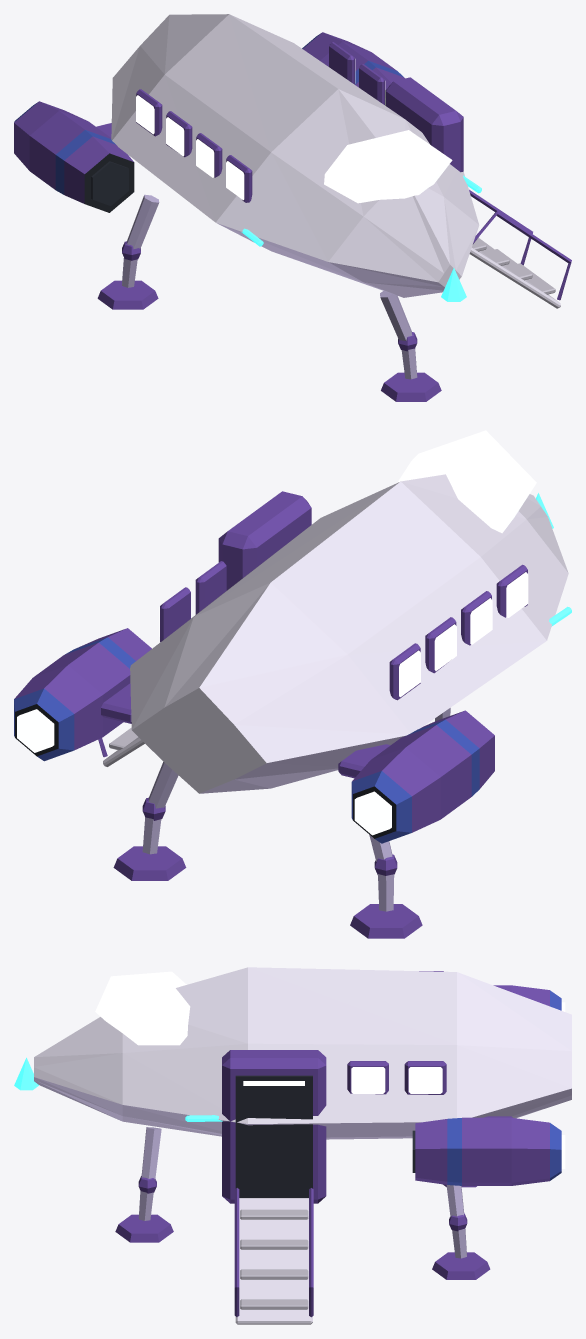
Rendered from pri-p_offen.glb.
The picture shows the model from 3 angles, top to bottom: view 1: azimuth 30°, elevation 25°; view 2: azimuth 150°, elevation 25°; view 3: azimuth 270°, elevation 25°; orthographic projection. The views are drawn at different scales.
Visible parts, largest first — view 1: rumpf, triebwerk_r, cockpit, fenster, türmodul, treppe, landebein_3, landebein_1, triebwerk_l, lichtakzente; view 2: rumpf, triebwerk_r, triebwerk_l, fenster, cockpit, türmodul, landebein_2, landebein_3, pylone, treppe; view 3: rumpf, treppe, triebwerk_l, türöffnung, türmodul, cockpit, fenster, landebein_1, landebein_2, triebwerk_r, lichtakzente.
Part boxes in pixels (box(x1,y1,x2,y2)): rumpf: box(111, 14, 479, 297); triebwerk_r: box(14, 101, 134, 212); cockpit: box(324, 130, 452, 203); fenster: box(136, 42, 385, 202); türmodul: box(386, 77, 463, 172); treppe: box(469, 189, 571, 308); landebein_3: box(97, 194, 159, 309); landebein_1: box(380, 291, 441, 401); triebwerk_l: box(302, 32, 404, 105); lichtakzente: box(241, 175, 481, 301); rumpf: box(130, 474, 568, 793); triebwerk_r: box(351, 710, 494, 843); triebwerk_l: box(14, 628, 151, 761); fenster: box(159, 561, 528, 700); cockpit: box(397, 430, 536, 533); türmodul: box(218, 491, 311, 590); landebein_2: box(113, 762, 186, 880); landebein_3: box(350, 835, 422, 938); pylone: box(101, 683, 390, 778); treppe: box(98, 727, 144, 766); rumpf: box(34, 967, 571, 1139); treppe: box(234, 1188, 313, 1324); triebwerk_l: box(412, 1117, 565, 1185); türöffnung: box(235, 1075, 312, 1197); türmodul: box(222, 1050, 326, 1203); cockpit: box(95, 971, 190, 1045); fenster: box(347, 971, 446, 1094); landebein_1: box(115, 1127, 173, 1242); landebein_2: box(432, 1185, 490, 1279); triebwerk_r: box(493, 985, 565, 1011); lichtakzente: box(14, 1057, 222, 1121).
Size of the model in its own units: 0.1056 by 0.0678 by 0.1335.
